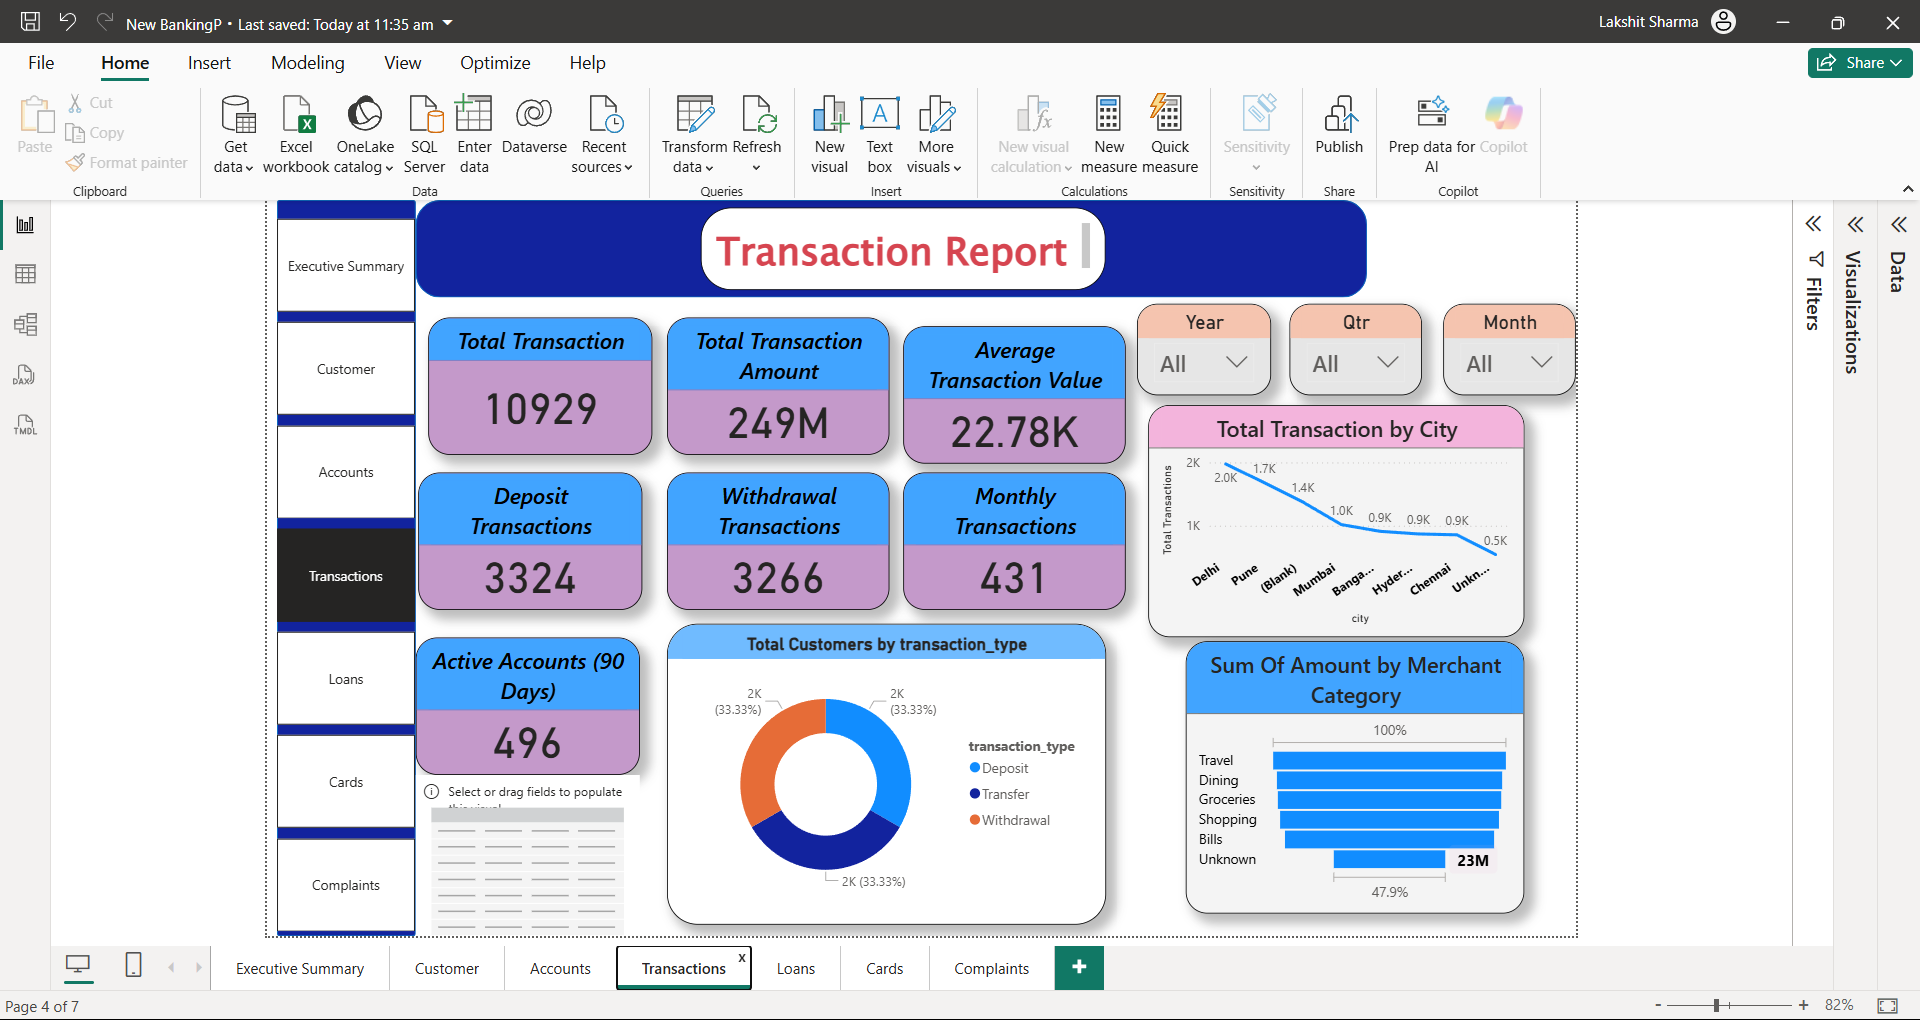

What the dashboard file says about the page in this screenshot:
{"tool":"powerbi","page":{"name":"Transactions","canvas":[1280,720],"ordinal":3},"visuals":[{"type":"card","title":"Total Transaction","fields":{"Values":["All Measures.Total Transactions"]},"box":[157.7,114.9,218.9,134.5],"z":0},{"type":"card","title":"Total Transaction Amount","fields":{"Values":["All Measures.Total Transaction Amount"]},"box":[391.3,114.9,217.7,134.5],"z":1000},{"type":"card","title":"Average Transaction Value","fields":{"Values":["All Measures.Average Transaction Value"]},"box":[622.4,114.9,217.7,134.5],"z":2000},{"type":"card","title":"Deposit Transactions","fields":{"Values":["All Measures.Deposit Transactions"]},"box":[148,266.6,218.9,134.5],"z":3000},{"type":"card","title":"Withdrawal Transactions","fields":{"Values":["All Measures.Withdrawal Transactions"]},"box":[391.3,266.6,217.7,134.5],"z":4000},{"type":"card","title":"Monthly Transactions","fields":{"Values":["All Measures.Monthly Transactions"]},"box":[622.4,266.6,217.7,134.5],"z":5000},{"type":"card","title":"Active Accounts (90 Days)","fields":{"Values":["All Measures.Active Accounts"]},"box":[145.5,428,218.9,134.5],"z":6000},{"type":"shape","box":[145.5,0,930.6,95.4],"z":7000},{"type":"textbox","box":[424.3,7.3,396.2,80.7],"z":8000},{"type":"shape","box":[9.8,0,135.7,720.2],"z":9000},{"type":"slicer","title":"Year","fields":{"Values":["Date.Date.Variation.Date Hierarchy.Year"]},"box":[851.1,101.5,130.8,89.3],"z":10000},{"type":"slicer","title":"Qtr","fields":{"Values":["Date.Date.Variation.Date Hierarchy.Quarter"]},"box":[1000.3,101.5,129.6,89.3],"z":11000},{"type":"slicer","title":"Month","fields":{"Values":["Date.Date.Variation.Date Hierarchy.Month"]},"box":[1150.7,101.5,129.6,89.3],"z":12000},{"type":"lineChart","title":"Total Transaction by City","fields":{"Y":["All Measures.Total Transactions"],"Category":["customers.city"]},"box":[862.1,200.5,368.1,227.4],"z":13000},{"type":"donutChart","fields":{"Y":["All Measures.Total Customers"],"Category":["transactions.transaction_type"]},"box":[391.3,414.5,429.2,294.7],"z":14000},{"type":"pageNavigator","box":[9.8,18.3,135.7,701.9],"z":15000},{"type":"funnel","title":"Sum Of Amount by Merchant Category","fields":{"Category":["transactions.merchant_category"],"Y":["Sum(transactions.amount)"]},"box":[898.8,431.7,331.4,266.6],"z":16000},{"type":"tableEx","box":[146,563,219,157],"z":17000}]}

Visuals, with their boxes on the page's 1280x720 design canvas (x1, y1, x2, y2). These are canvas units, not pixel positions in the 1920x1020 screenshot, which may show the page scaled, cropped or inside an application window:
"Total Transaction" card: locate(158, 115, 377, 249)
"Total Transaction Amount" card: locate(391, 115, 609, 249)
"Average Transaction Value" card: locate(622, 115, 840, 249)
"Deposit Transactions" card: locate(148, 267, 367, 401)
"Withdrawal Transactions" card: locate(391, 267, 609, 401)
"Monthly Transactions" card: locate(622, 267, 840, 401)
"Active Accounts (90 Days)" card: locate(146, 428, 364, 562)
shape: locate(146, 0, 1076, 95)
textbox: locate(424, 7, 820, 88)
shape: locate(10, 0, 146, 720)
"Year" slicer: locate(851, 102, 982, 191)
"Qtr" slicer: locate(1000, 102, 1130, 191)
"Month" slicer: locate(1151, 102, 1280, 191)
"Total Transaction by City" lineChart: locate(862, 200, 1230, 428)
donutChart - All Measures.Total Customers x transactions.transaction_type: locate(391, 414, 820, 709)
pageNavigator: locate(10, 18, 146, 720)
"Sum Of Amount by Merchant Category" funnel: locate(899, 432, 1230, 698)
tableEx: locate(146, 563, 365, 720)
